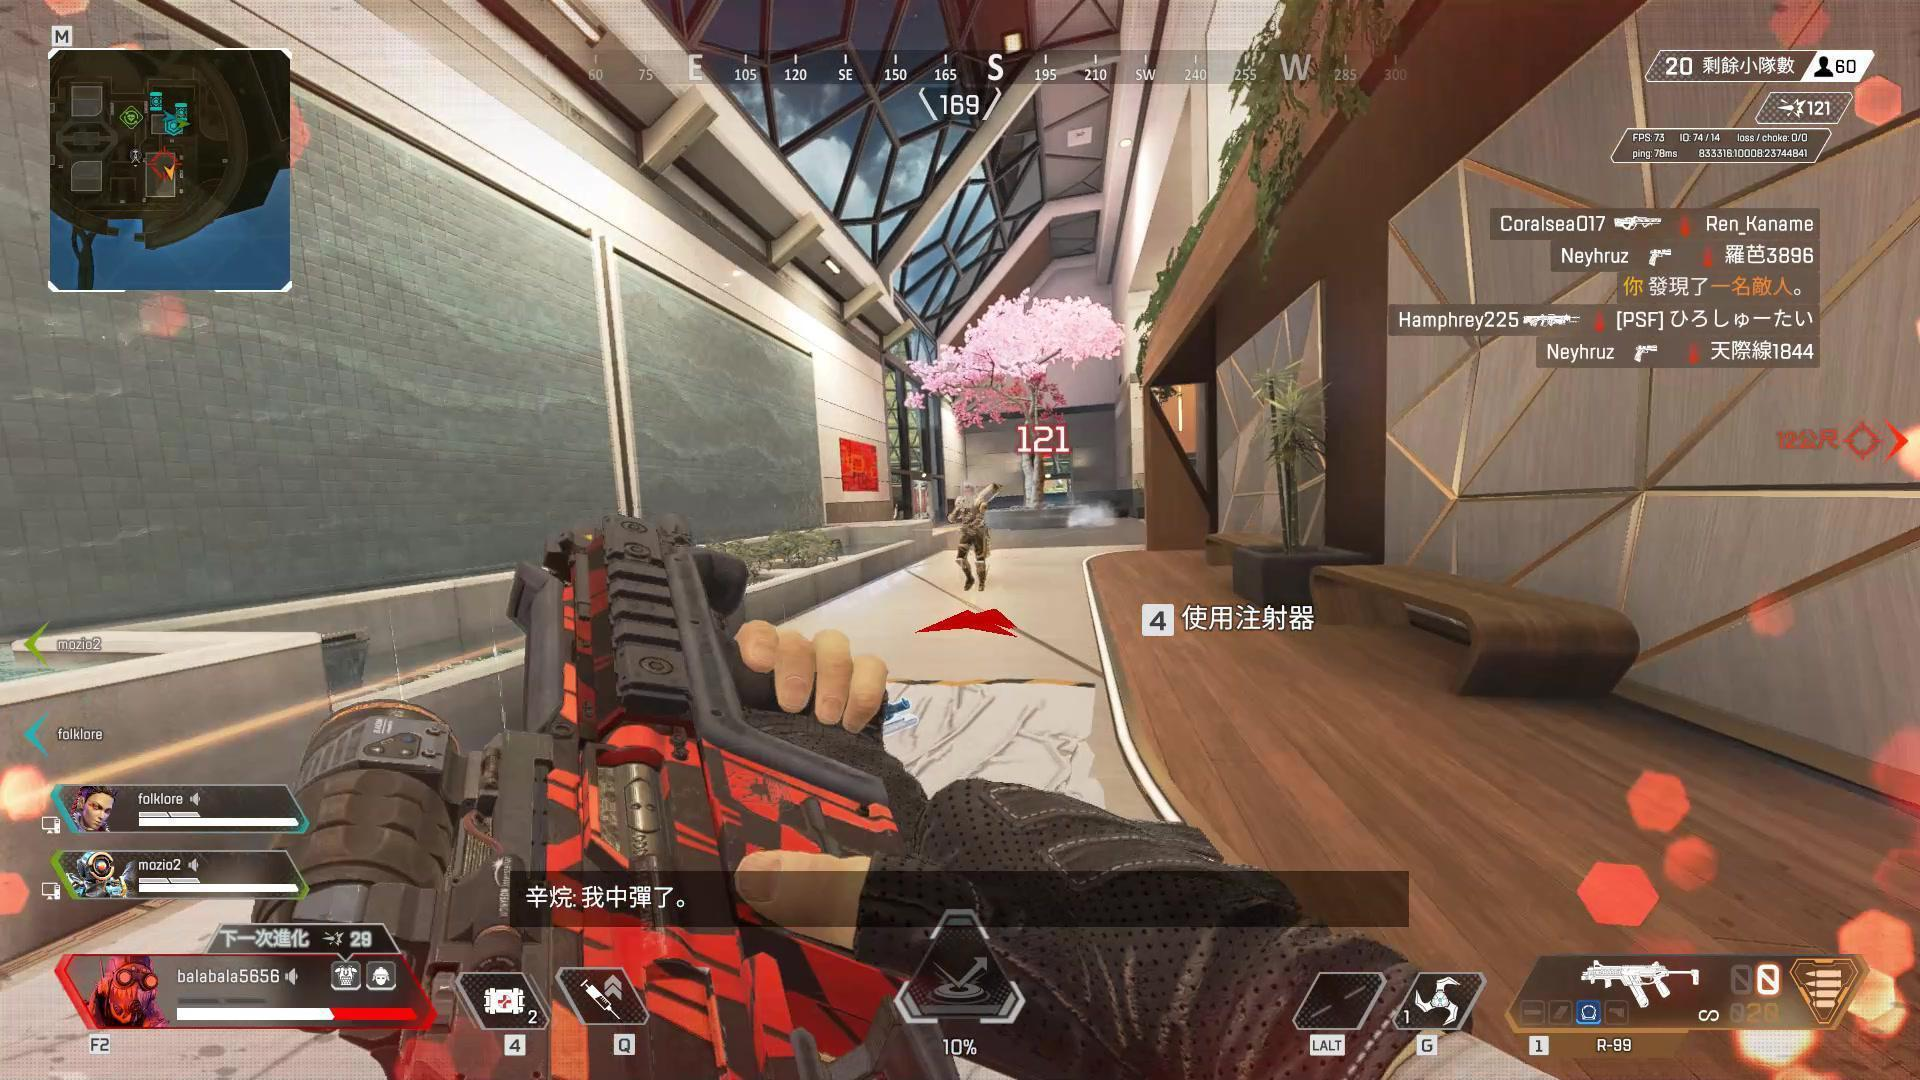avatar: (946, 479, 992, 594)
